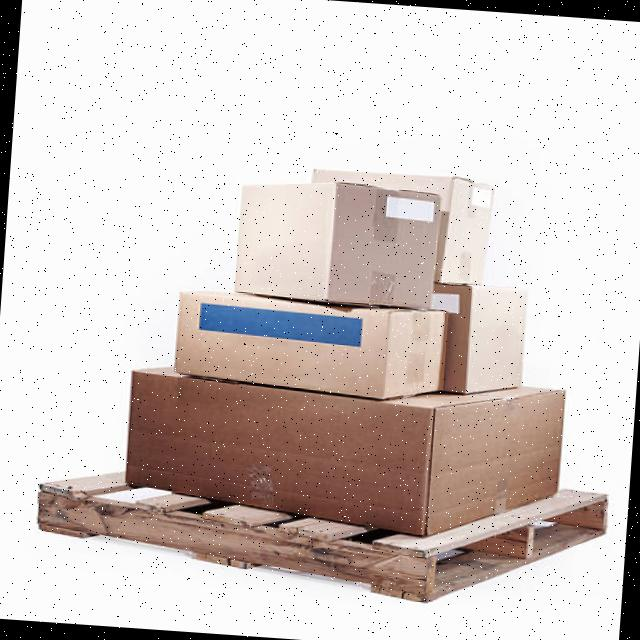Wooden-Pallets: (40, 480, 615, 604)
